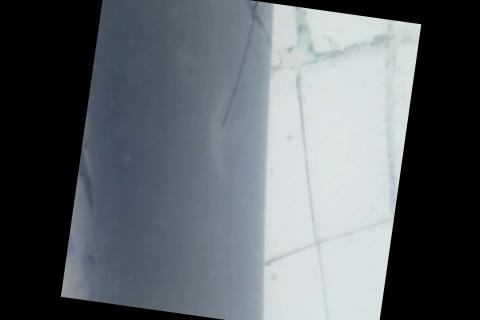keretakan: (214, 0, 270, 132)
